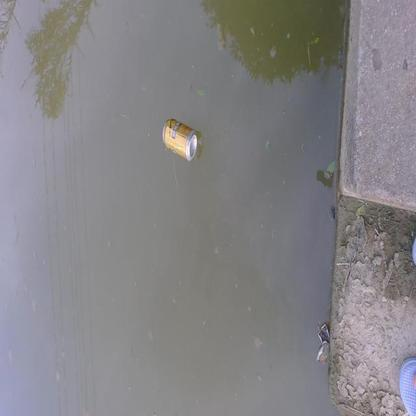can: (162, 119, 198, 161)
